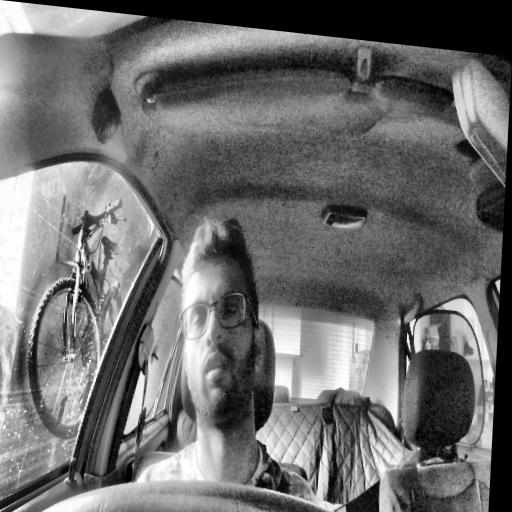drowsy: (173, 208, 272, 439)
